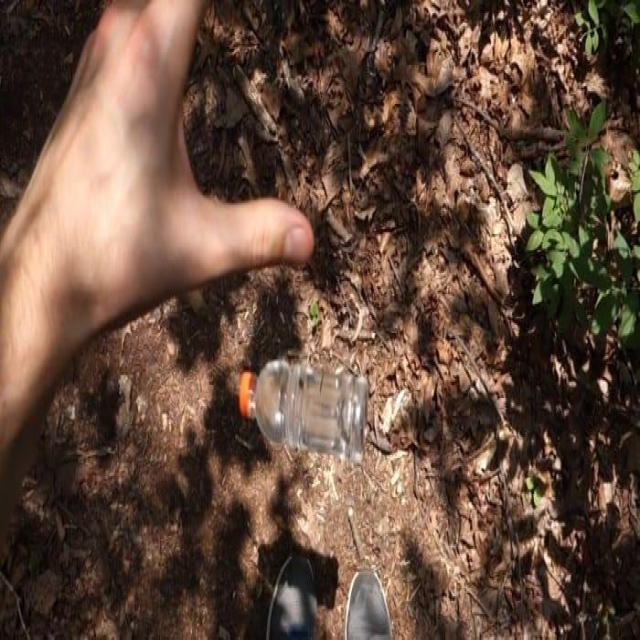bottle: (229, 348, 369, 503)
